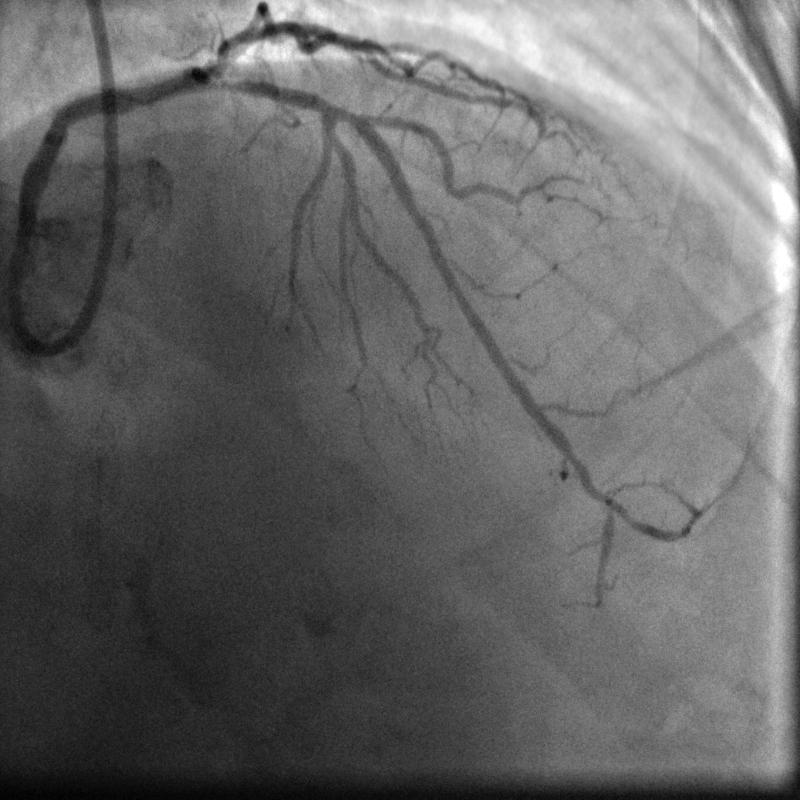Stenosis: (195, 69, 263, 99)
